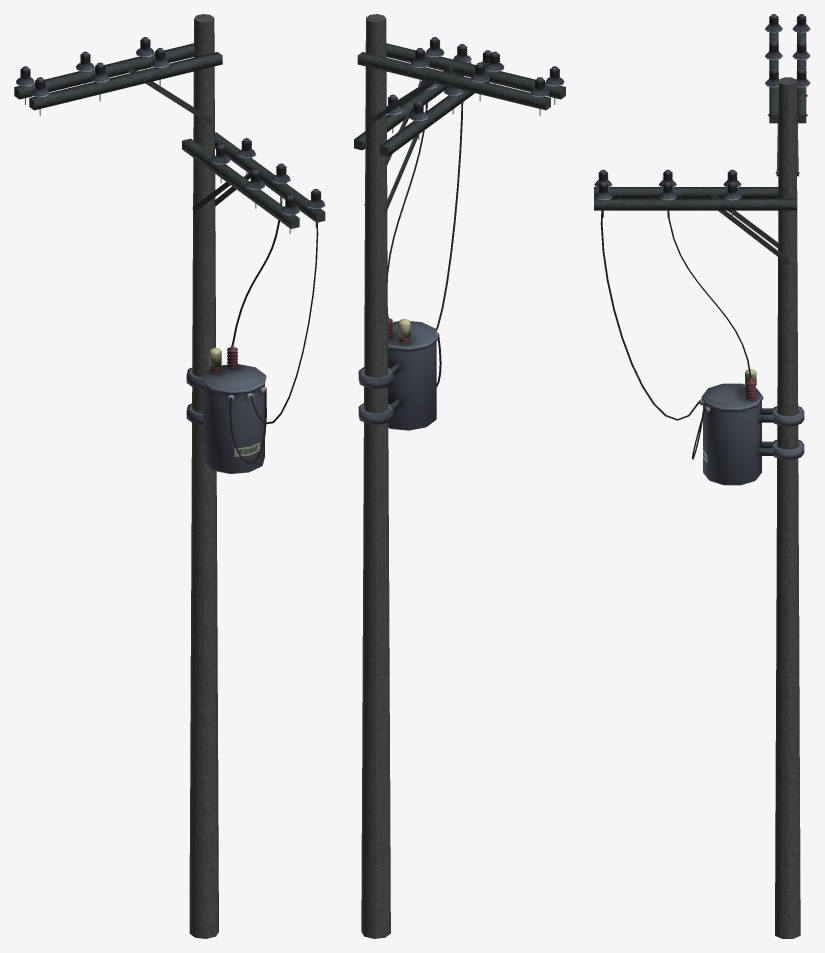
Rendered from pole_concrete_f_lod_0.glb.
The picture shows the model from 3 angles, left to right: view 1: azimuth 30°, elevation 25°; view 2: azimuth 150°, elevation 25°; view 3: azimuth 270°, elevation 25°; orthographic projection. The views are drawn at different scales.
Parts seen in each view (by area): view 1: pole_concrete_f_lod_0; view 2: pole_concrete_f_lod_0; view 3: pole_concrete_f_lod_0.
Boxes of the visible parts, x1,y1,x2,y2 form: pole_concrete_f_lod_0: (14, 14, 325, 938); pole_concrete_f_lod_0: (354, 14, 565, 938); pole_concrete_f_lod_0: (594, 14, 810, 938).
Bounding box in the file's own units: 2.42 × 10.2 × 2.35.
Materials: 2 (2 with a texture image).
